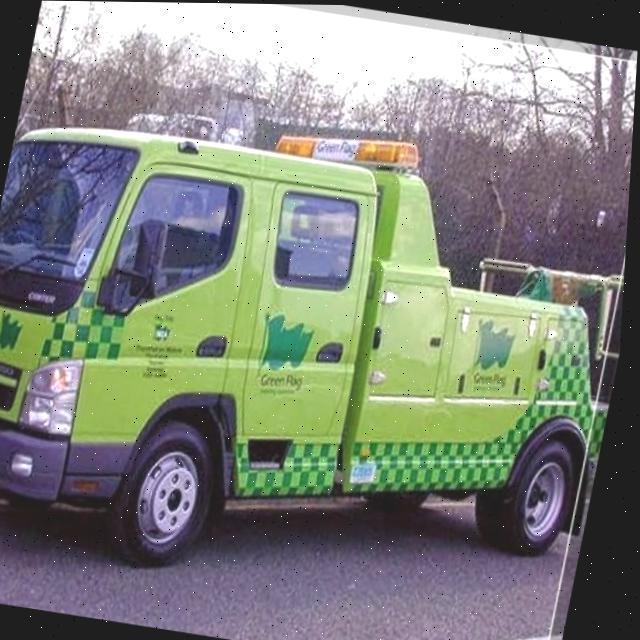truck: (0, 79, 636, 632)
